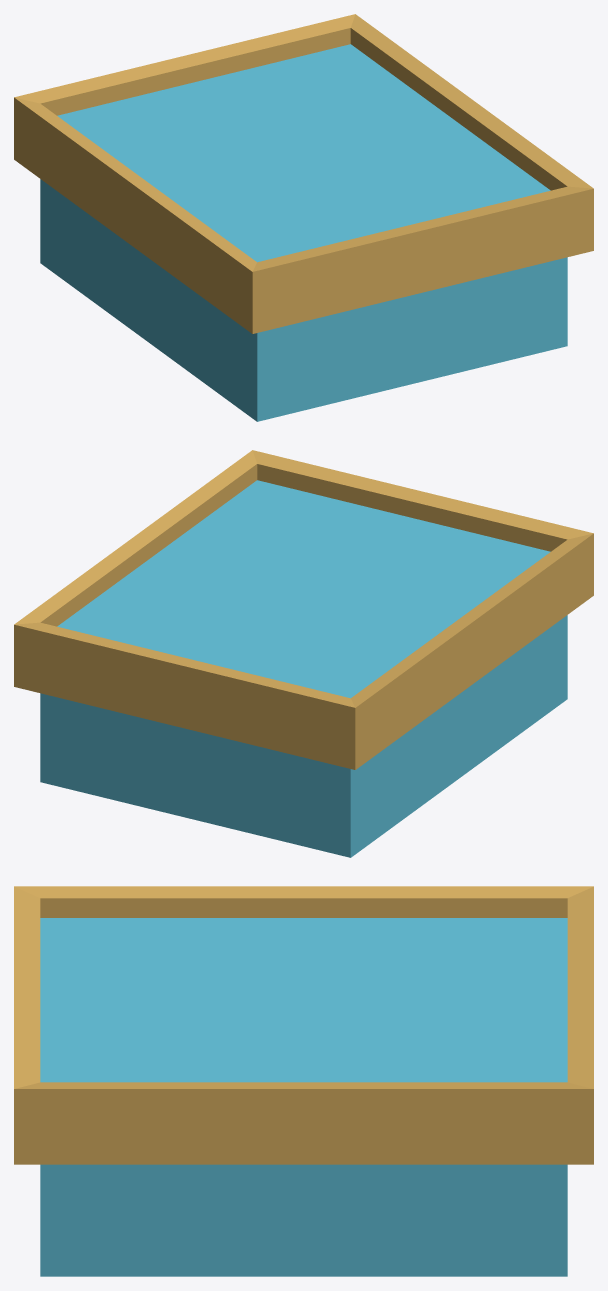
The model's file is LargeTH_Roof.fbx.
3 views of the same model, one above another, from view 1: azimuth 30°, elevation 25°; view 2: azimuth 150°, elevation 25°; view 3: azimuth 270°, elevation 25° (orthographic). The views are drawn at different scales.
Parts seen in each view (by area): view 1: LargeTH_Top; view 2: LargeTH_Top; view 3: LargeTH_Top.
Boxes of the visible parts, <box> form: LargeTH_Top: <box>14,14,593,421</box>; LargeTH_Top: <box>14,450,593,857</box>; LargeTH_Top: <box>14,886,593,1276</box>.
Size of the model in its own units: 4.4 by 1.99 by 5.32.
